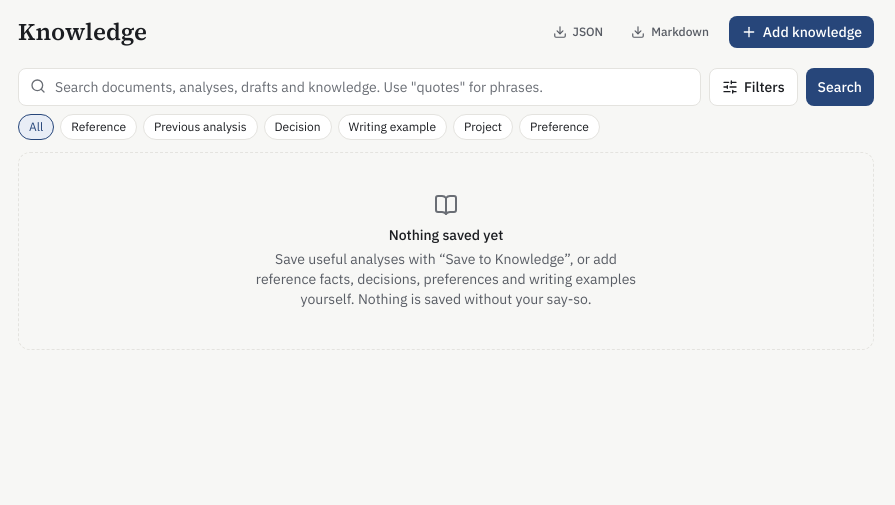
Test: knowledge search shows highlighted excerpts with source references
Type "commitment fee" into the field with test id "search-input" at (359, 87), box left=18, top=68, right=701, bottom=106
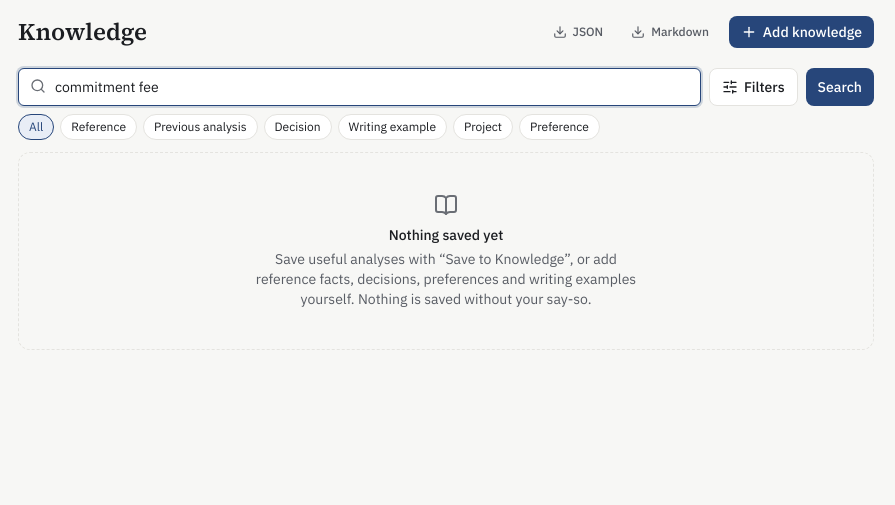
Click the button "Search" at (840, 87), box left=806, top=68, right=874, bottom=106
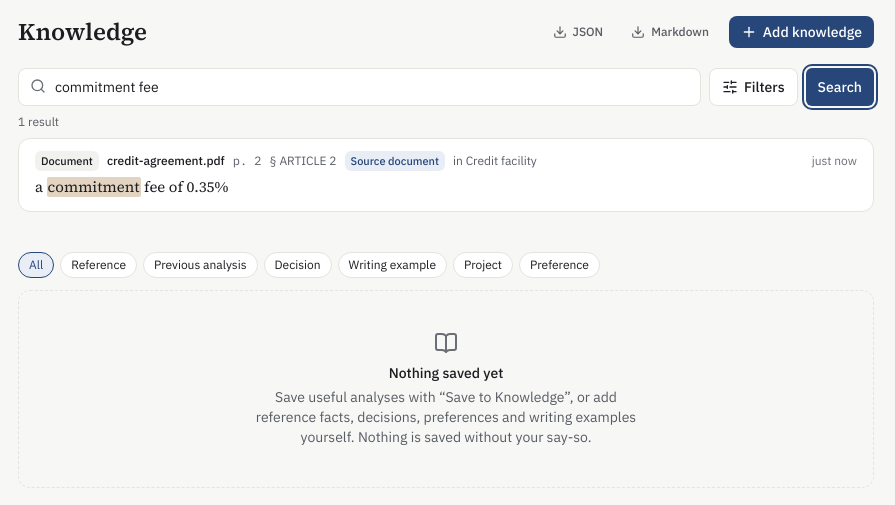
Now the list with test id "search-results" shows "credit-agreement.pdf", box left=19, top=139, right=873, bottom=211
Now the list with test id "search-results" shows "p. 2", box left=18, top=138, right=874, bottom=212
Now the text "commitment" is shown, box left=47, top=177, right=141, bottom=197
